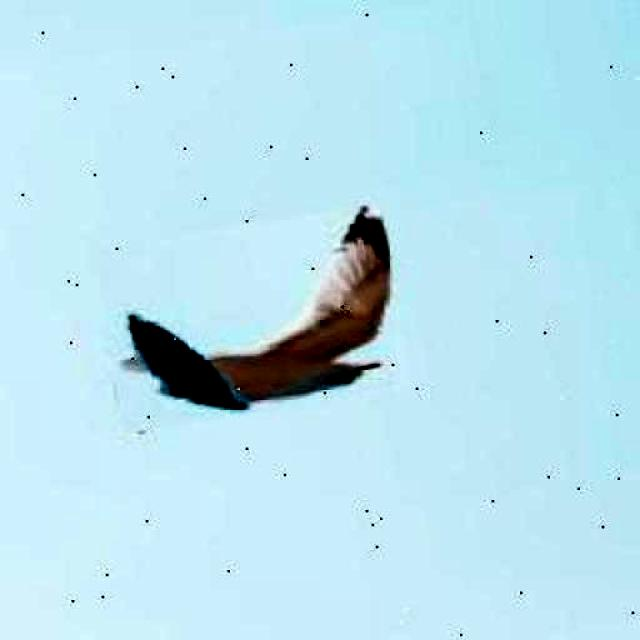airplane: (94, 202, 412, 435)
